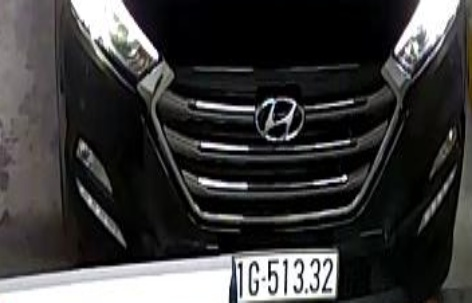plate: (228, 248, 343, 303)
